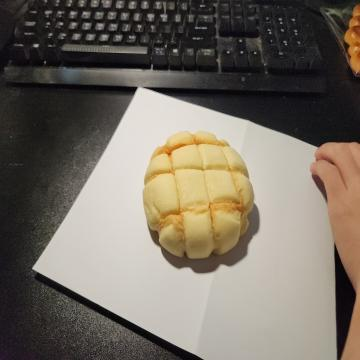melon_bread: (144, 129, 256, 263)
